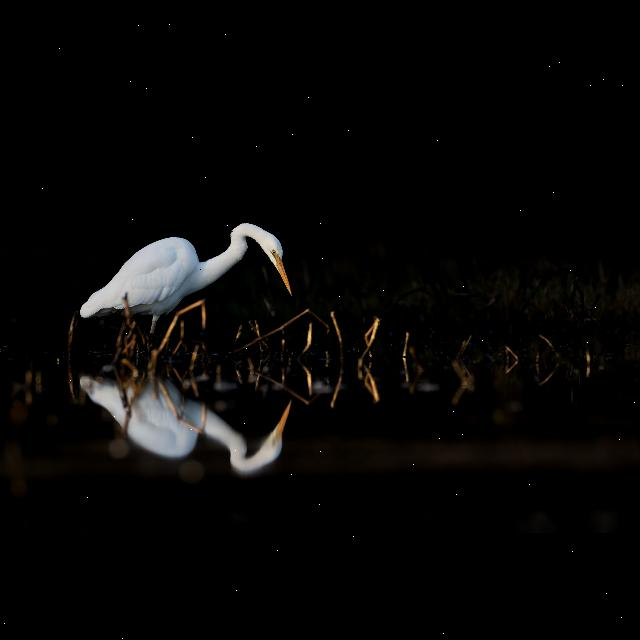egret: (73, 207, 293, 363)
